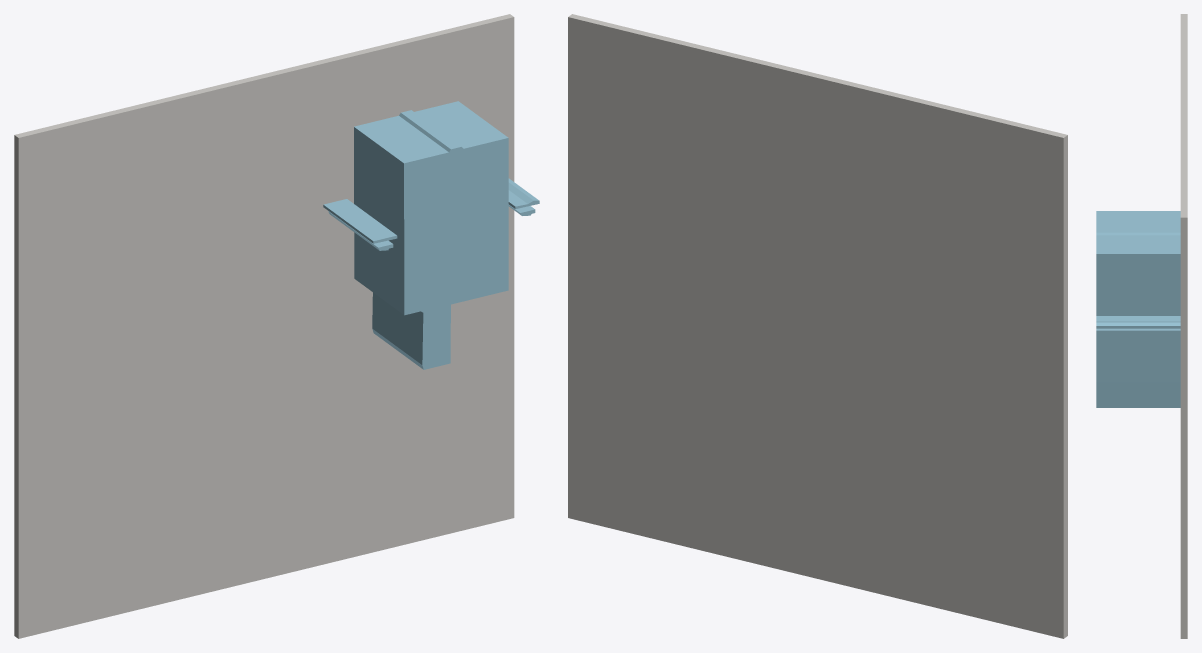
The picture shows the model from 3 angles, left to right: view 1: azimuth 30°, elevation 25°; view 2: azimuth 150°, elevation 25°; view 3: azimuth 270°, elevation 25°; orthographic projection. The views are drawn at different scales.
Parts seen in each view (by area): view 1: world; view 2: world; view 3: world.
Boxes of the visible parts, x1,y1,x2,y2 form: world: [14, 14, 539, 638]; world: [568, 14, 1067, 638]; world: [1096, 14, 1187, 638].
Bounding box in the file's own units: 10.23 × 9.88 × 1.94.
